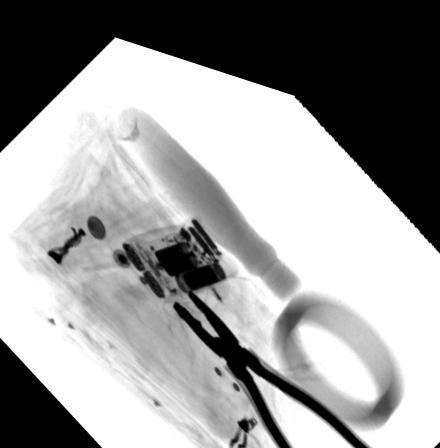Pliers: (169, 275, 403, 448)
